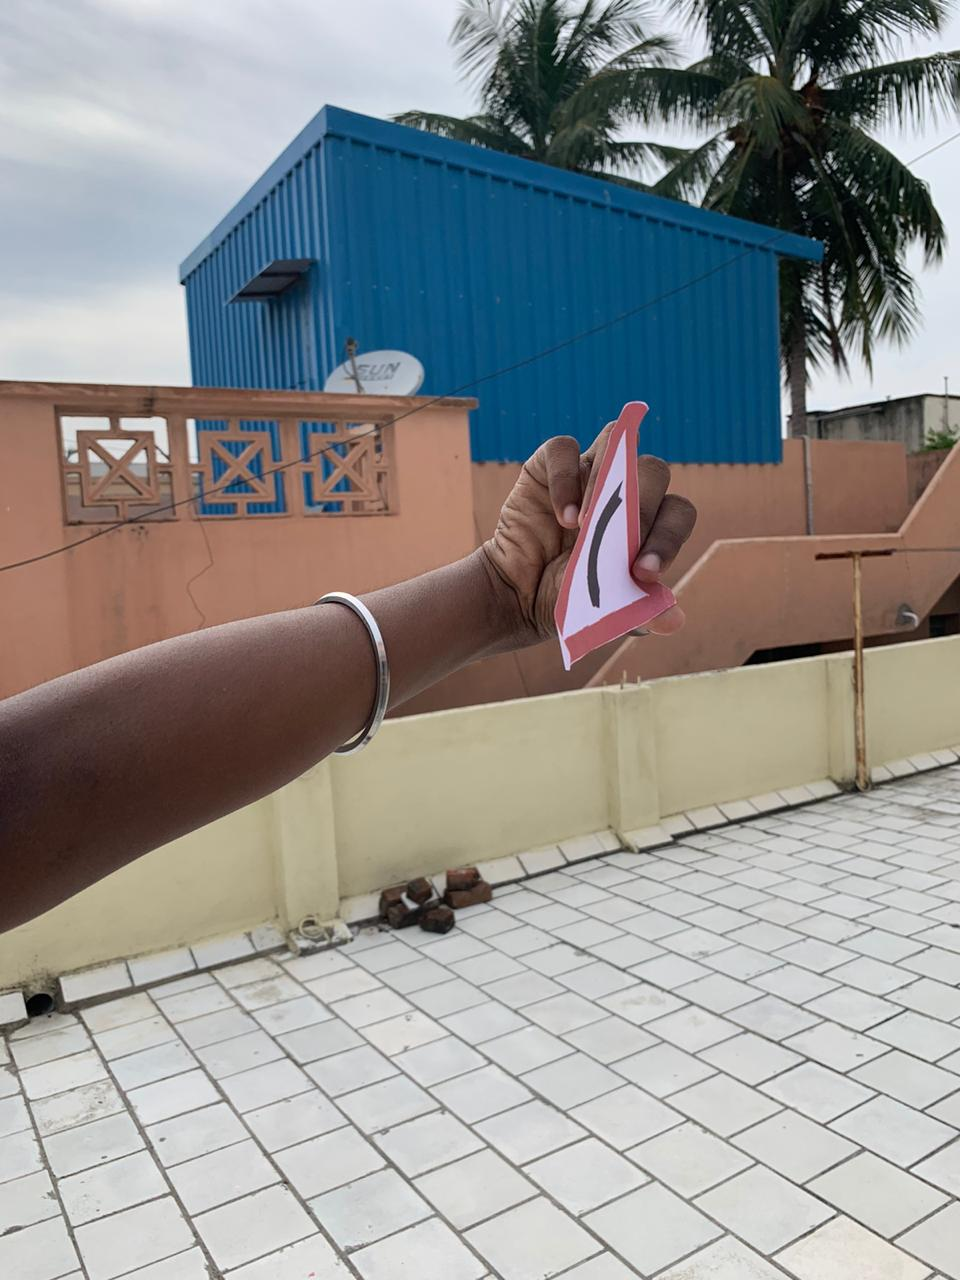LEFT CURVE: (499, 390, 705, 681)
